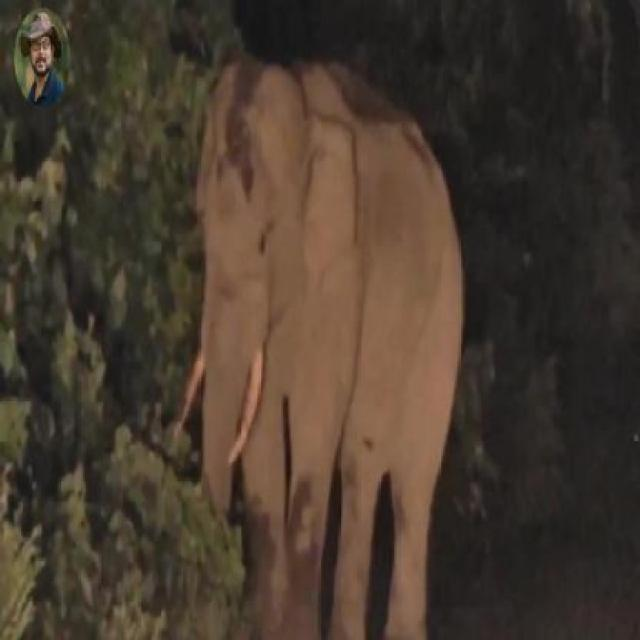Elephant: (163, 24, 494, 639)
